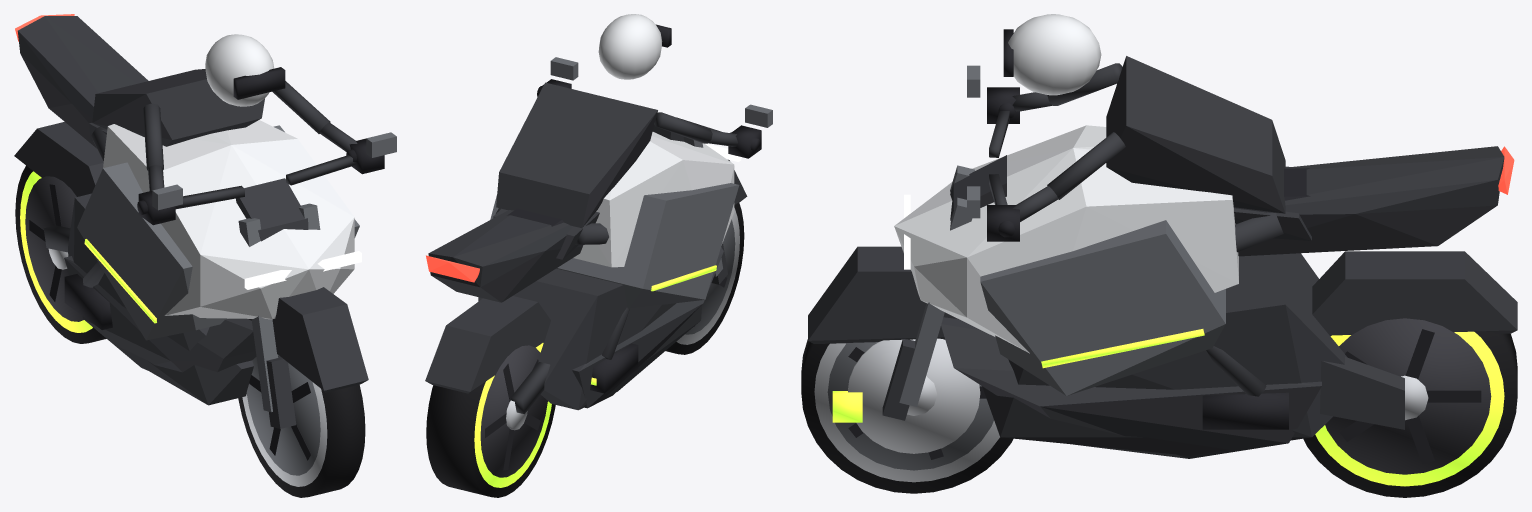
File: bike_01.glb
The picture shows the model from 3 angles, left to right: view 1: azimuth 30°, elevation 25°; view 2: azimuth 150°, elevation 25°; view 3: azimuth 270°, elevation 25°; orthographic projection. The views are drawn at different scales.
Parts seen in each view (by area): view 1: Details, Fairing, FlankPlate, Wheel_F_Mesh, Tail, Wheel_R_Mesh, Belly, Battery; view 2: Details, Wheel_R_Mesh, FlankPlate, Battery, Fairing, Tail, Wheel_F_Mesh, Belly, Seat; view 3: Details, Fairing, FlankPlate, Wheel_R_Mesh, Wheel_F_Mesh, Battery, Tail, Belly.
Part boxes in pixels (bbox=[...]): Details: bbox=[14, 14, 396, 428]; Fairing: bbox=[103, 120, 354, 319]; FlankPlate: bbox=[77, 125, 359, 340]; Wheel_F_Mesh: bbox=[238, 355, 365, 497]; Tail: bbox=[17, 16, 148, 148]; Wheel_R_Mesh: bbox=[15, 165, 106, 343]; Belly: bbox=[64, 256, 256, 372]; Battery: bbox=[68, 193, 253, 405]; Details: bbox=[425, 14, 772, 414]; Wheel_R_Mesh: bbox=[426, 343, 555, 497]; FlankPlate: bbox=[490, 183, 739, 308]; Battery: bbox=[478, 268, 701, 410]; Fairing: bbox=[573, 132, 734, 267]; Tail: bbox=[428, 210, 583, 302]; Wheel_F_Mesh: bbox=[666, 203, 744, 354]; Belly: bbox=[572, 247, 723, 408]; Seat: bbox=[507, 208, 563, 226]; Details: bbox=[808, 14, 1517, 429]; Fairing: bbox=[894, 125, 1238, 353]; FlankPlate: bbox=[980, 220, 1225, 395]; Wheel_R_Mesh: bbox=[1303, 318, 1517, 497]; Wheel_F_Mesh: bbox=[801, 338, 1013, 493]; Battery: bbox=[982, 253, 1347, 455]; Tail: bbox=[1238, 146, 1504, 256]; Belly: bbox=[941, 317, 1321, 458].
Bounding box in the file's own units: 0.96 × 1.55 × 2.16.
